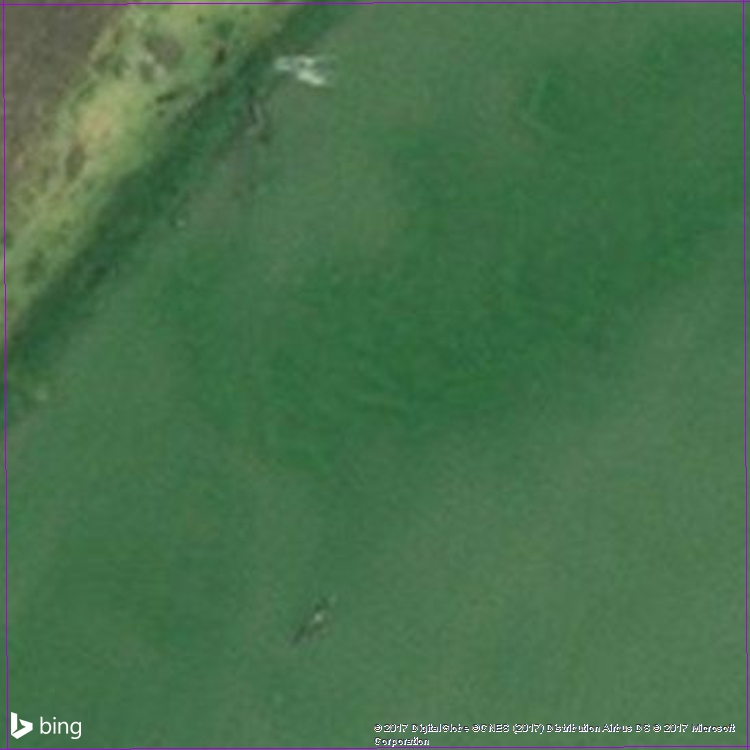boat: (285, 588, 343, 657), (237, 72, 273, 148)
